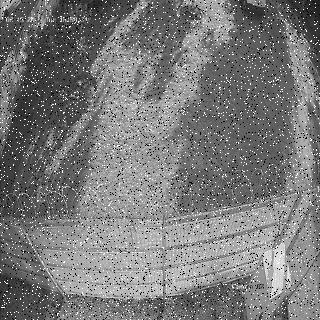car: (241, 0, 266, 16)
